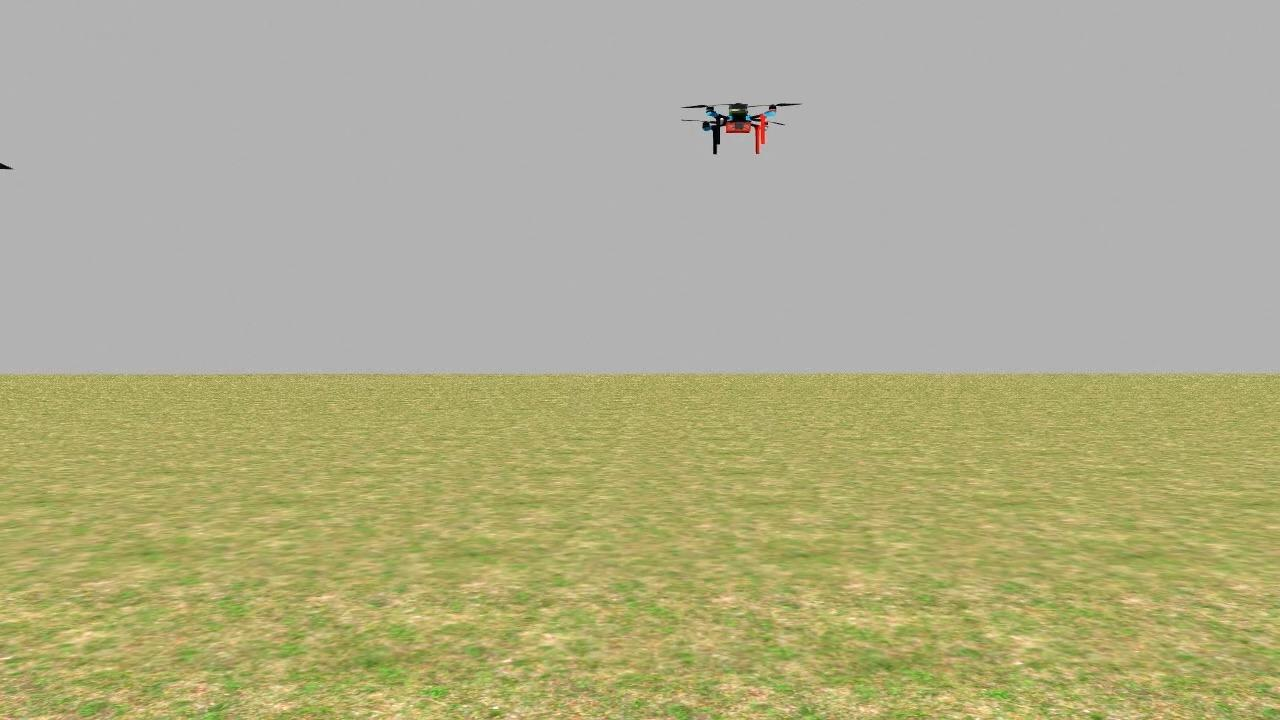UAV: (662, 74, 809, 166)
